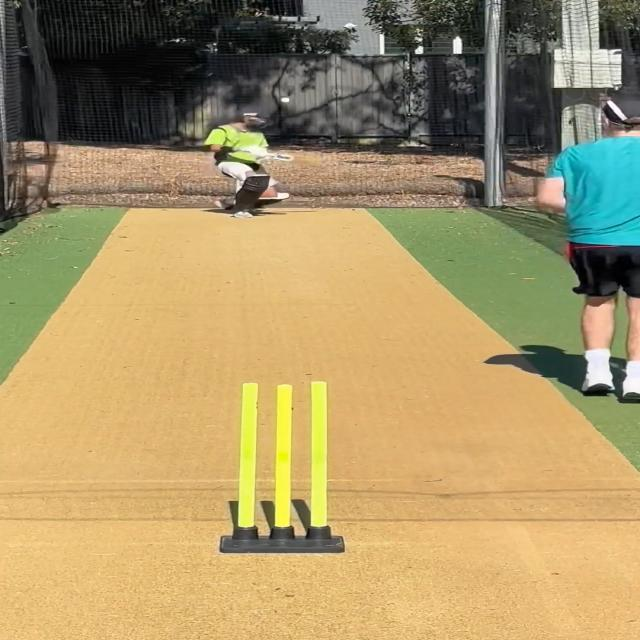ball: (278, 96, 290, 104)
stump: (220, 379, 346, 554)
